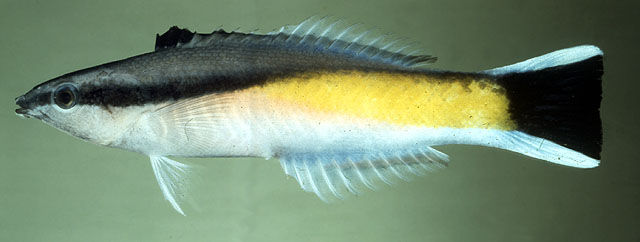fish: (14, 13, 605, 218)
